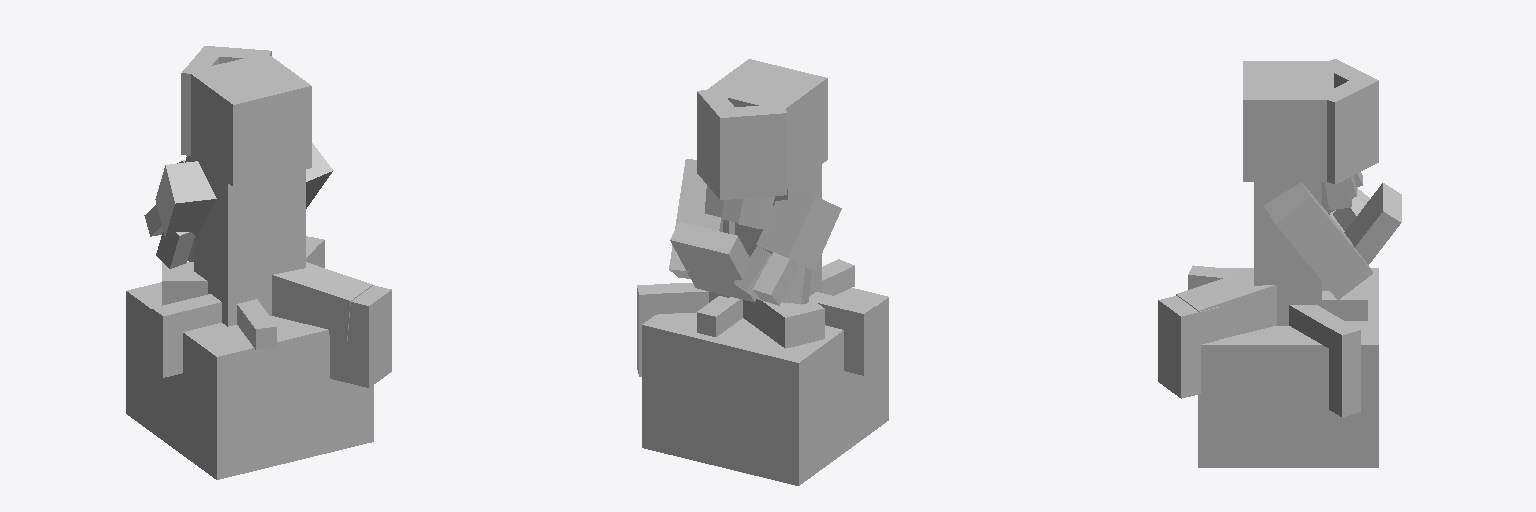
File: jzaharstatue.obj
The picture shows the model from 3 angles: view 1: azimuth 30°, elevation 25°; view 2: azimuth 150°, elevation 25°; view 3: azimuth 270°, elevation 25°; orthographic projection.
Parts seen in each view (by area): view 1: base, head, body1, tentacle2, tentacle1, rightarm, tentacle9, tentacle4, tentacle3, mask1, tentacle8, armtentacle4 (+3 smaller); view 2: base, head, mask1, rightarm, abyssalnomicon, tentacle4, mask2, tentacle9, leftarm, armtentacle2, tentacle7, tentacle5 (+7 smaller); view 3: base, head, leftarm, mask2, tentacle2, body1, tentacle1, tentacle6, abyssalnomicon, tentacle5, tentacle7, body2 (+3 smaller).
Part boxes in pixels (left/top/right/bottom): base: left=126, top=282, right=373, bottom=479; head: left=189, top=53, right=311, bottom=186; body1: left=205, top=167, right=305, bottom=326; tentacle2: left=330, top=285, right=391, bottom=387; tentacle1: left=272, top=262, right=372, bottom=340; rightarm: left=155, top=161, right=216, bottom=237; tentacle9: left=152, top=303, right=182, bottom=377; tentacle4: left=162, top=262, right=207, bottom=305; tentacle3: left=237, top=299, right=276, bottom=349; mask1: left=181, top=46, right=225, bottom=155; tentacle8: left=172, top=294, right=221, bottom=331; armtentacle4: left=156, top=232, right=194, bottom=268; base: left=642, top=288, right=888, bottom=485; head: left=704, top=59, right=827, bottom=188; mask1: left=717, top=105, right=786, bottom=199; rightarm: left=756, top=186, right=841, bottom=270; abyssalnomicon: left=670, top=222, right=755, bottom=302; tentacle4: left=743, top=297, right=824, bottom=348; mask2: left=697, top=90, right=740, bottom=198; tentacle9: left=844, top=301, right=874, bottom=375; leftarm: left=669, top=159, right=722, bottom=278; armtentacle2: left=753, top=252, right=799, bottom=305; tentacle7: left=697, top=296, right=742, bottom=336; tentacle5: left=659, top=283, right=708, bottom=313; base: left=1198, top=268, right=1378, bottom=467; head: left=1243, top=61, right=1333, bottom=181; leftarm: left=1263, top=182, right=1372, bottom=299; mask2: left=1318, top=81, right=1378, bottom=184; tentacle2: left=1158, top=296, right=1219, bottom=398; body1: left=1254, top=182, right=1299, bottom=325; tentacle1: left=1176, top=268, right=1276, bottom=338; tentacle6: left=1329, top=322, right=1360, bottom=417; abyssalnomicon: left=1344, top=183, right=1401, bottom=264; tentacle5: left=1289, top=305, right=1345, bottom=347; tentacle7: left=1322, top=291, right=1367, bottom=320; body2: left=1300, top=182, right=1321, bottom=307.
Size of the model in its own units: 0.6367 by 1.06 by 0.6708.